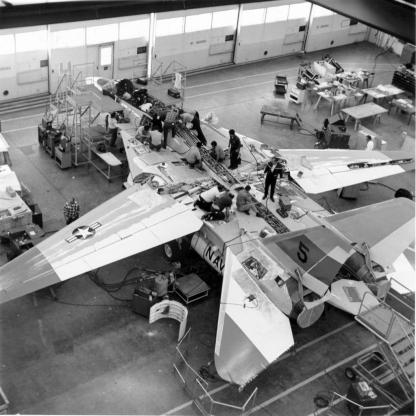F14: (2, 77, 416, 394)
